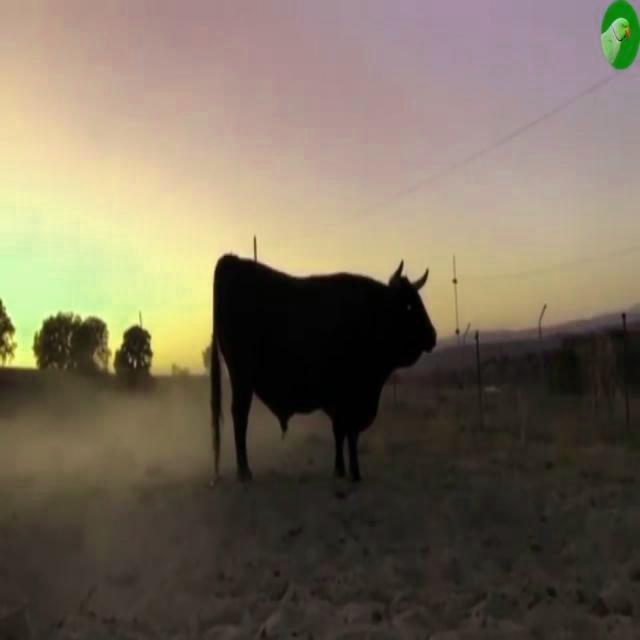cow: (210, 255, 436, 480)
